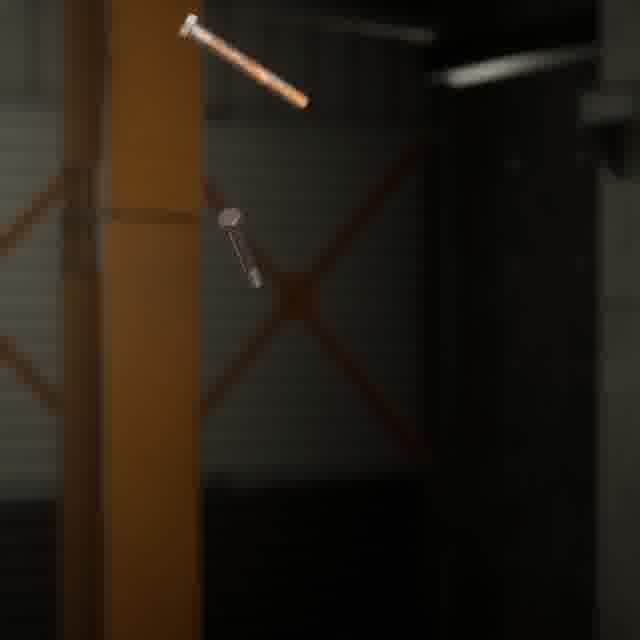bolt: (172, 9, 313, 114), (213, 202, 266, 292)
